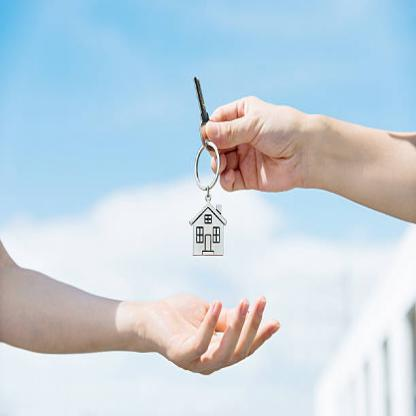keys: (188, 73, 224, 155)
